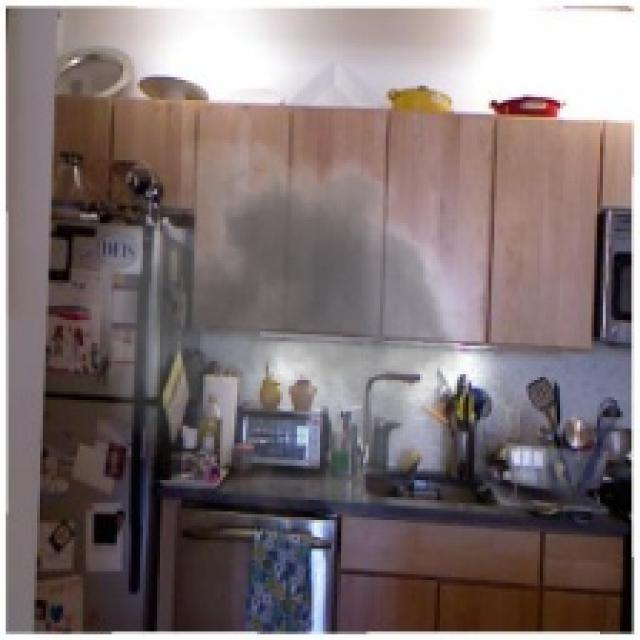smoke: (77, 117, 489, 540)
